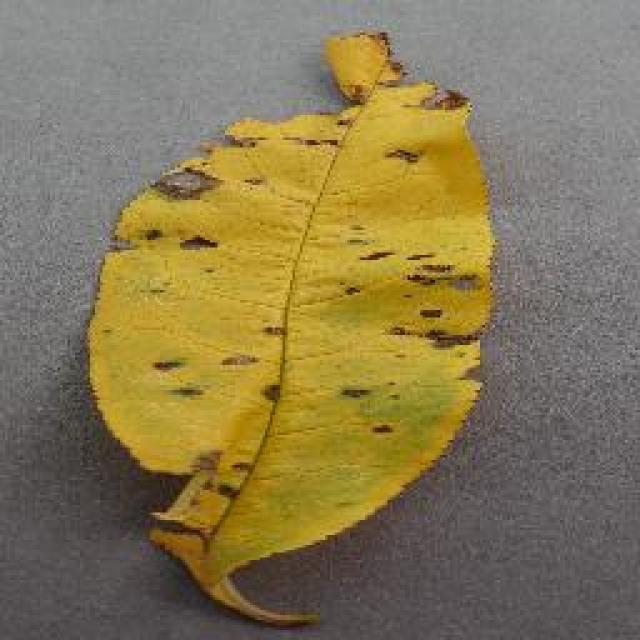Peach_Bacterial_Spot: (158, 110, 510, 538)
